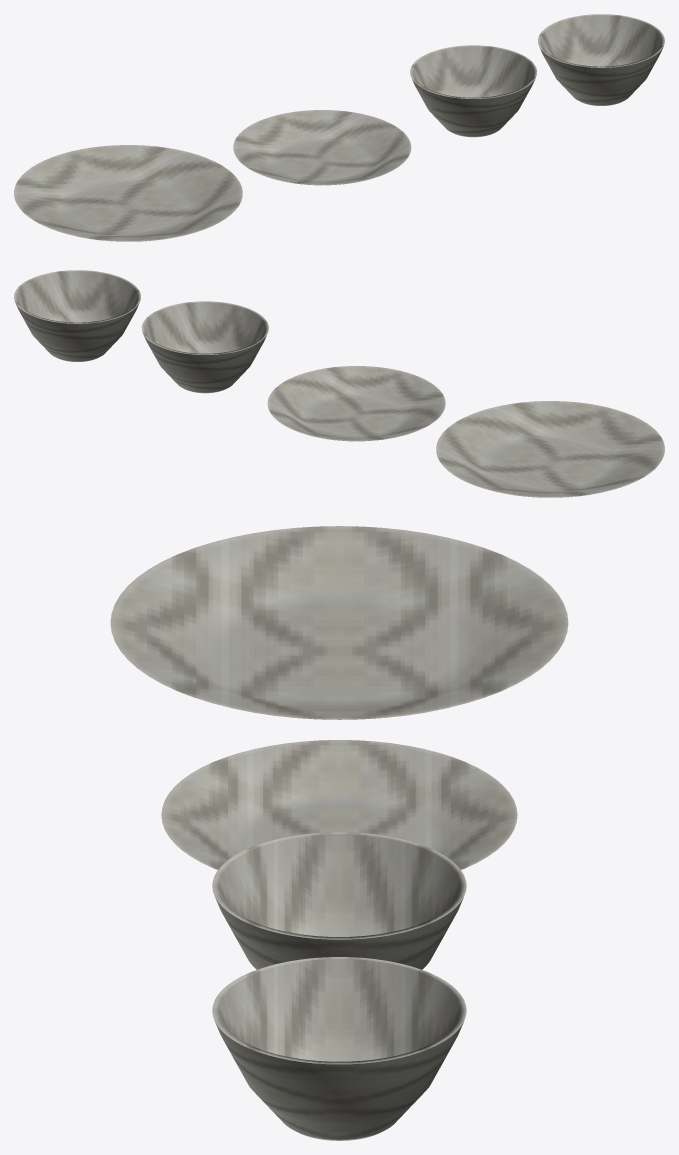
The model's file is BLC-11.glb.
3 views of the same model, one above another, from view 1: azimuth 30°, elevation 25°; view 2: azimuth 150°, elevation 25°; view 3: azimuth 270°, elevation 25° (orthographic). The views are drawn at different scales.
Size of the model in its own units: 0.854 by 0.07 by 0.27.
Materials: 8 (8 with a texture image).
